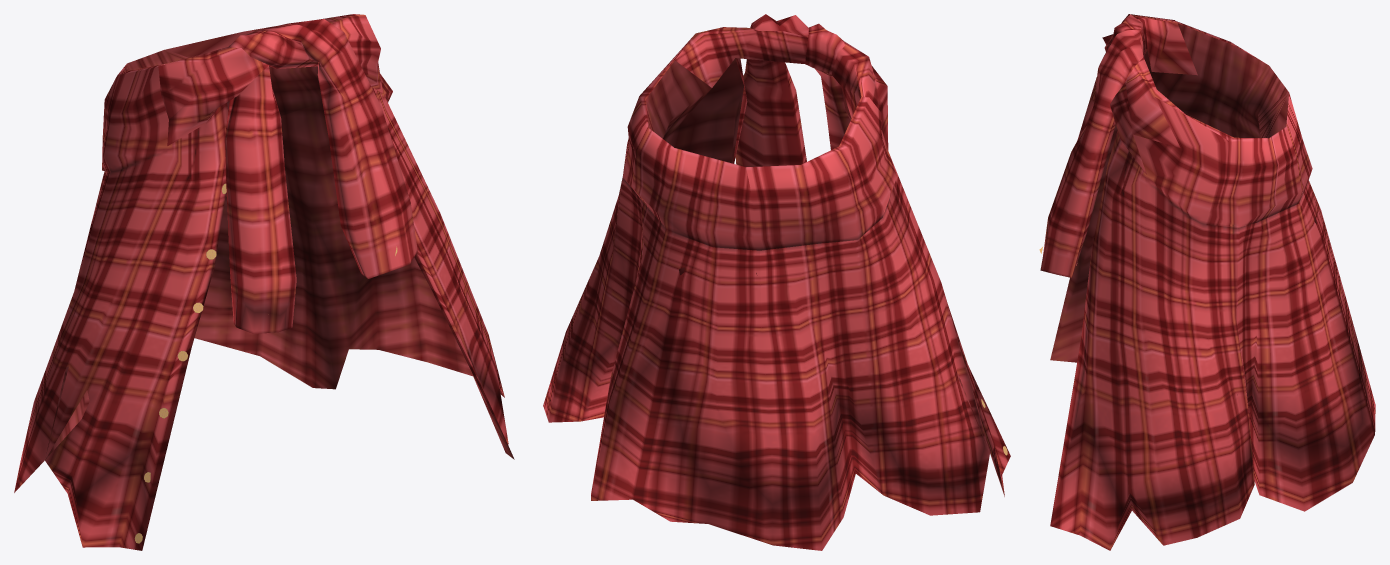
File: NaritaTaishinShirtWaistGround.fbx
The picture shows the model from 3 angles, left to right: view 1: azimuth 30°, elevation 25°; view 2: azimuth 150°, elevation 25°; view 3: azimuth 270°, elevation 25°; orthographic projection. The views are drawn at different scales.
Visible parts, largest first — view 1: M_Body.002; view 2: M_Body.002; view 3: M_Body.002.
Part boxes in pixels (left/top/right/bottom): M_Body.002: left=14, top=14, right=514, bottom=550; M_Body.002: left=543, top=14, right=1010, bottom=550; M_Body.002: left=1039, top=14, right=1375, bottom=550.
Size of the model in its own units: 0.3887 by 0.3669 by 0.2626.
